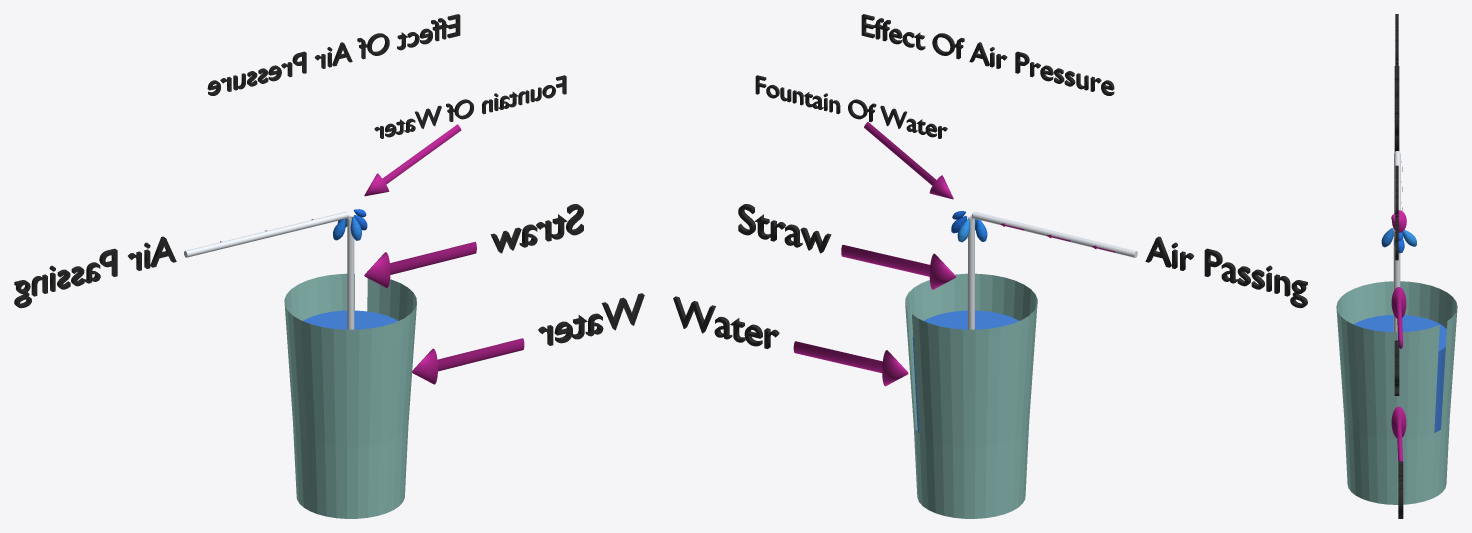
File: Effect Of Air Pressure.gltf
3 renders of one model, left to right at view 1: azimuth 30°, elevation 25°; view 2: azimuth 150°, elevation 25°; view 3: azimuth 270°, elevation 25°, orthographic. The views are drawn at different scales.
Visible parts, largest first — view 1: Cylinder, Text.001, Text.004, Text.006, Cylinder.006, Text.002, Cylinder.008, Text.005, Cylinder.009, Cylinder.007, Cylinder.001; view 2: Cylinder, Text.001, Text.004, Text.006, Cylinder.008, Cylinder.006, Text.002, Text.005, Cylinder.009, Cylinder.007, Cylinder.001; view 3: Cylinder, Cylinder.006, Cylinder.008, Text.001, Cylinder.001, Text.006, Text.004, Text.002, Text.005, Cylinder.009, Cylinder.007, Cylinder.005 (+1 smaller).
Part boxes in pixels (x1,y1,x2,y2): Cylinder: (284,273,416,518); Text.001: (207,14,460,95); Text.004: (14,236,176,308); Text.006: (374,75,566,138); Cylinder.006: (364,241,476,287); Text.002: (538,293,644,345); Cylinder.008: (412,338,524,384); Text.005: (490,204,583,253); Cylinder.009: (184,211,349,257); Cylinder.007: (364,124,461,196); Cylinder.001: (347,216,354,329); Cylinder: (905,273,1037,518); Text.001: (861,14,1114,95); Text.004: (1145,236,1307,308); Text.006: (755,75,947,138); Cylinder.008: (793,341,908,386); Cylinder.006: (841,245,955,289); Text.002: (673,296,779,348); Text.005: (738,204,831,253); Cylinder.009: (972,211,1137,257); Cylinder.007: (864,122,953,199); Cylinder.001: (968,216,974,329); Cylinder: (1336,281,1457,504); Cylinder.006: (1391,287,1406,348); Cylinder.008: (1391,406,1406,461); Text.001: (1395,14,1398,135); Cylinder.001: (1393,230,1400,332); Text.006: (1395,165,1398,260); Text.004: (1394,66,1399,151); Text.002: (1398,461,1403,518); Text.005: (1394,340,1399,395); Cylinder.009: (1394,151,1400,213); Cylinder.007: (1391,210,1406,232); Cylinder.005: (1381,228,1393,247).
Size of the model in its own units: 2.99 by 2.07 by 0.5469.
